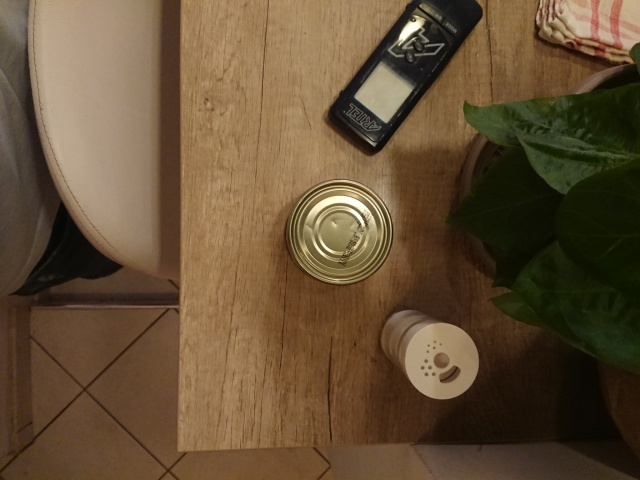Giana Tuna Salad Mexico 185g: (283, 177, 395, 288)
